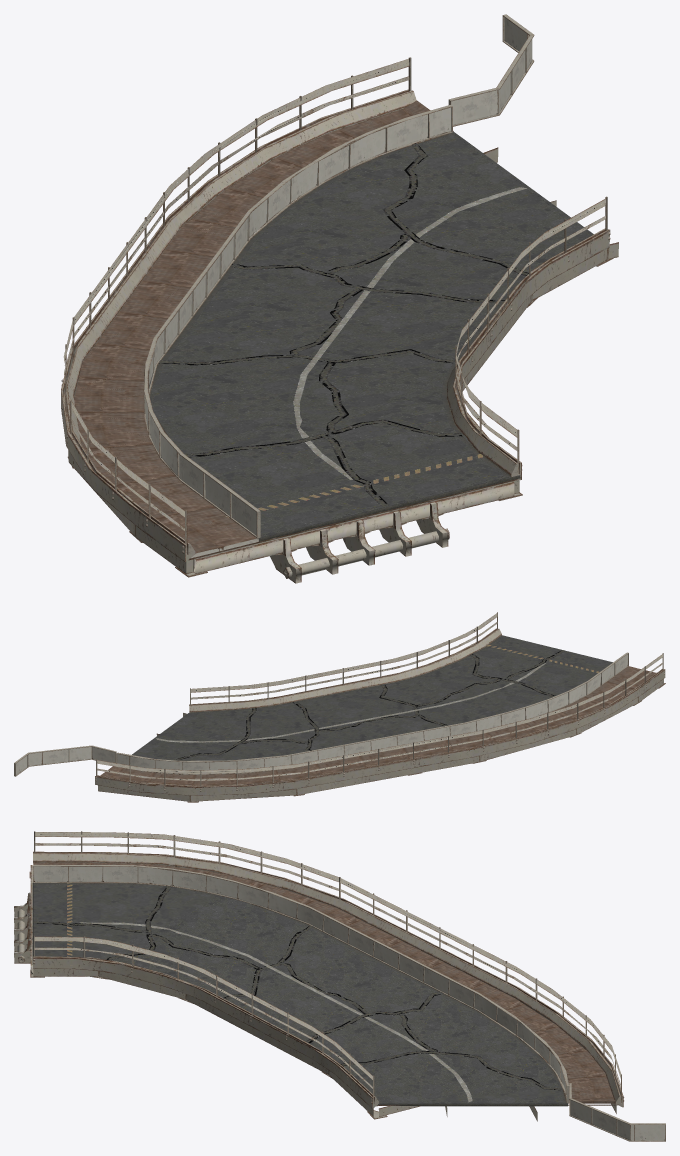
File: ferry_road_bridge.glb
3 views of the same model, one above another, from view 1: azimuth 30°, elevation 25°; view 2: azimuth 150°, elevation 25°; view 3: azimuth 270°, elevation 25° (orthographic). The views are drawn at different scales.
Parts seen in each view (by area): view 1: ferry_road_bridge_LOD0; view 2: ferry_road_bridge_LOD0; view 3: ferry_road_bridge_LOD0.
Part boxes in pixels (box(x1,y1,x2,y2)): ferry_road_bridge_LOD0: box(61, 14, 618, 583); ferry_road_bridge_LOD0: box(14, 612, 665, 802); ferry_road_bridge_LOD0: box(14, 831, 665, 1141).
Size of the model in its own units: 28.04 by 3.64 by 30.17.
5 materials, 5 textured.
